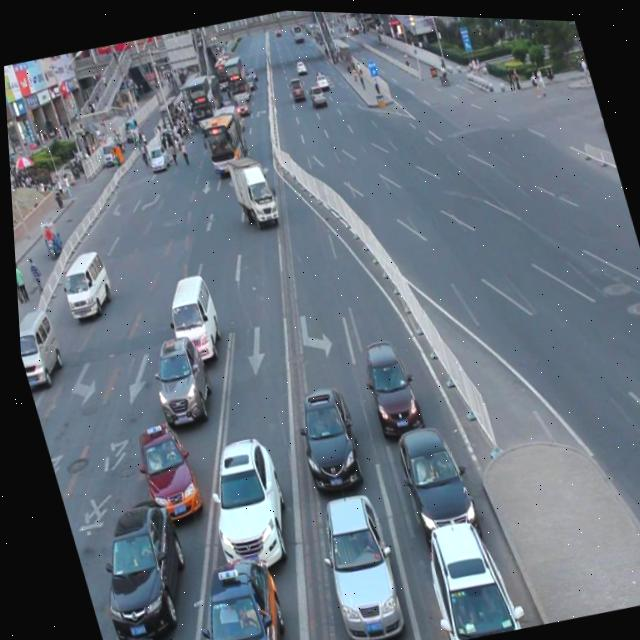bus: (224, 150, 277, 225)
car: (71, 486, 198, 640), (299, 479, 404, 640), (184, 423, 296, 573), (405, 503, 515, 640), (165, 541, 291, 640), (382, 411, 475, 541), (279, 376, 364, 493), (123, 414, 200, 524), (136, 324, 215, 427), (351, 330, 421, 440), (93, 624, 165, 640)
truck: (152, 267, 225, 365), (51, 246, 115, 322), (14, 305, 65, 387)
